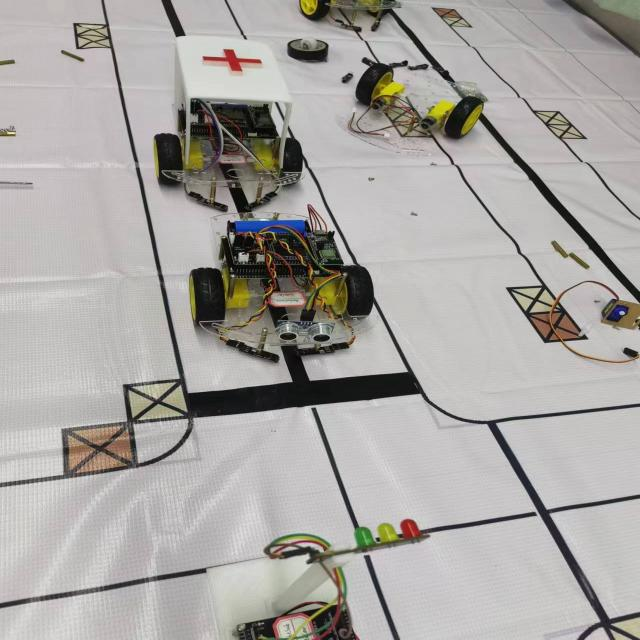RedCross: (195, 41, 267, 83)
